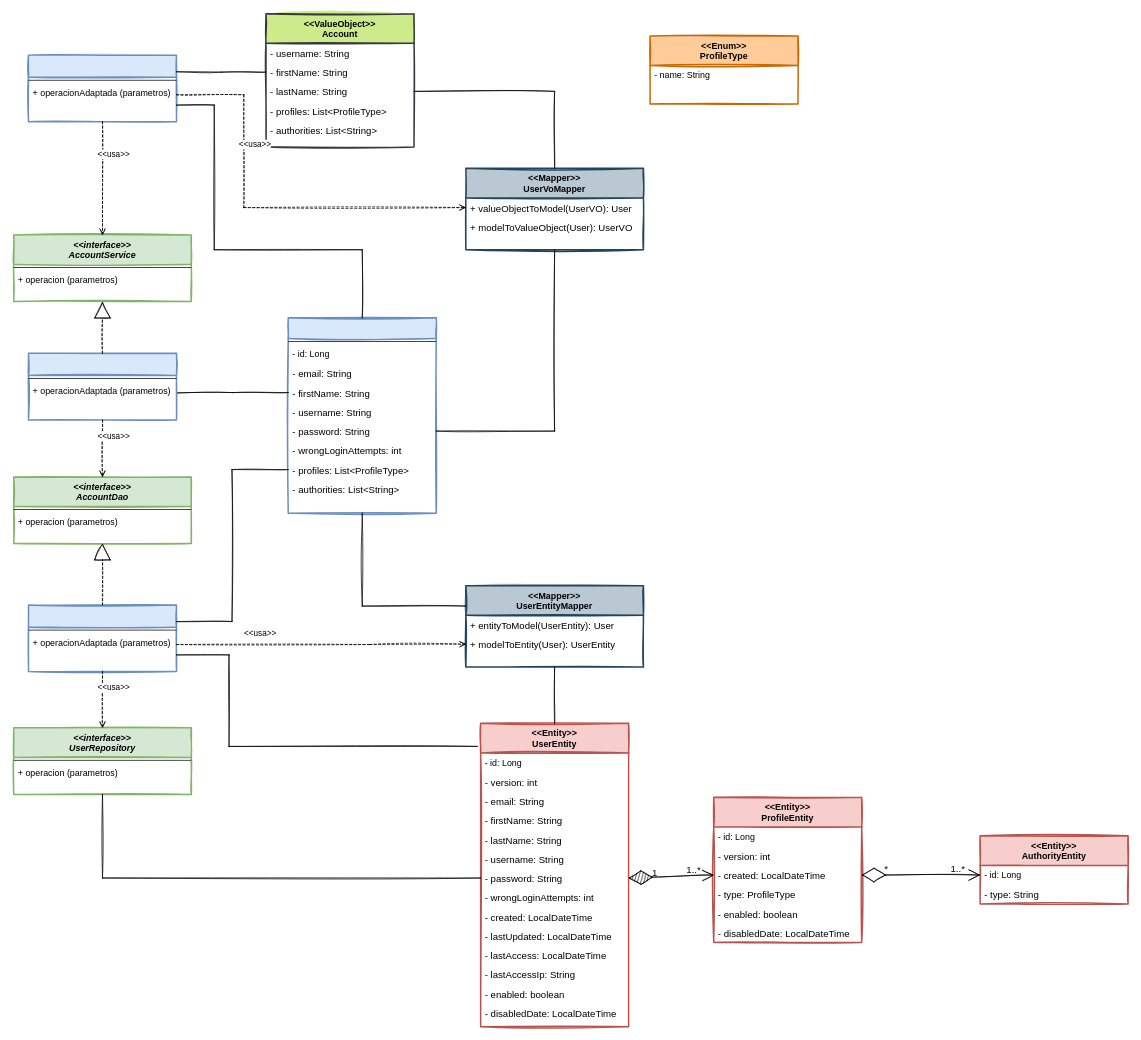
The diagram is 1141 pixels wide and 1040 high, and some of its shapes have lost their labels. The box of each missing label's shape, as (x1, y1, x2, y2) in pixels:
Account: (287, 317, 437, 514)
AccountController: (27, 54, 177, 122)
AccountReactiveDao: (27, 604, 177, 672)
RegisterAccount: (27, 352, 177, 420)
